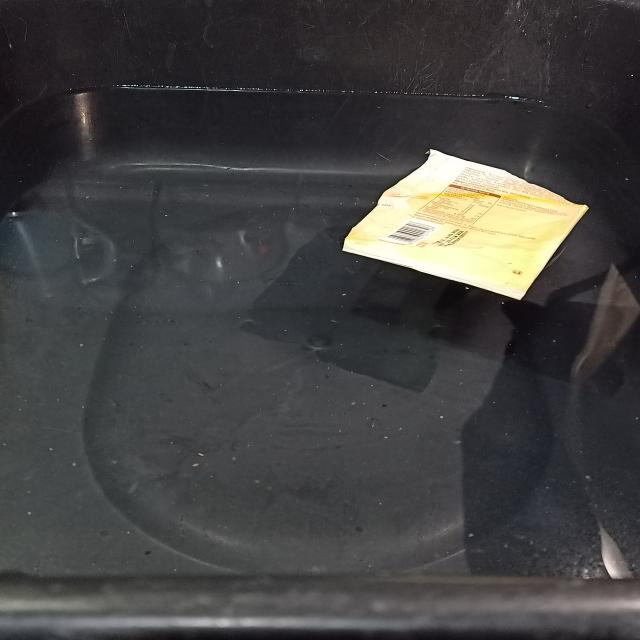Plastic Wrapper: (343, 150, 589, 300)
